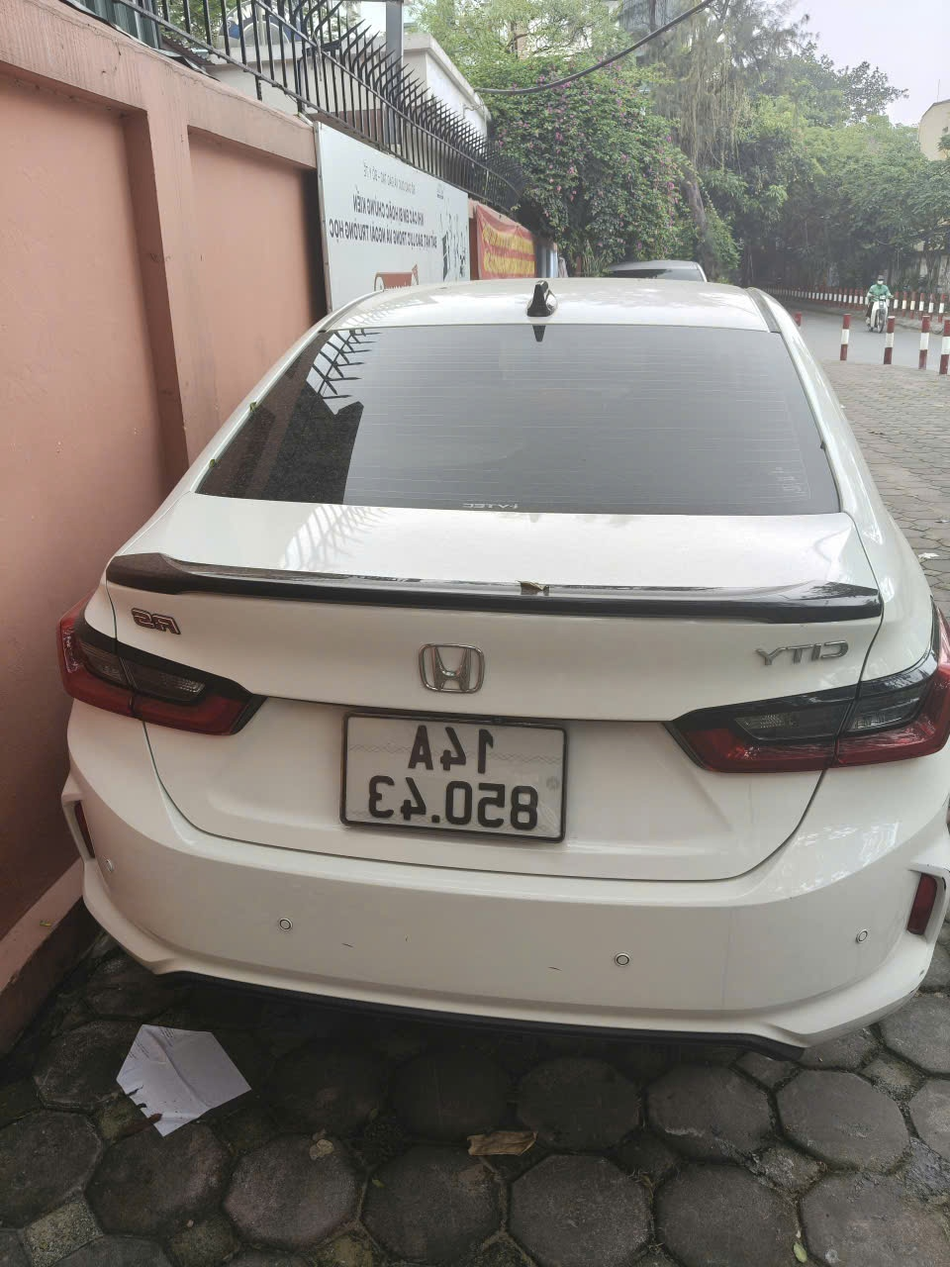plate: (750, 635, 855, 671)
